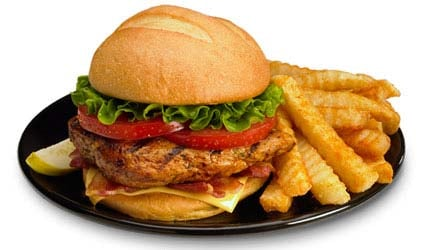soup: (29, 5, 298, 221), (269, 63, 404, 199)
